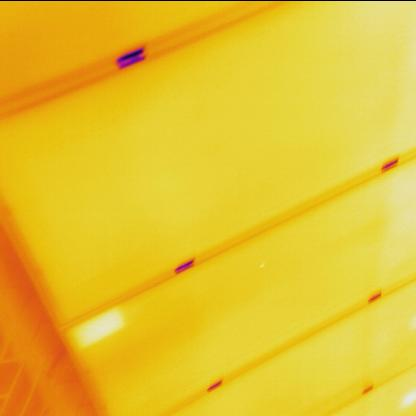hotspot: (67, 302, 130, 352)
